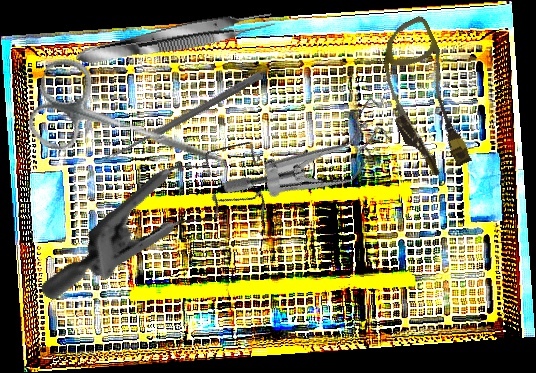Cannula: (358, 14, 489, 183)
Iris Scissors: (22, 52, 240, 201)
Speculum: (38, 86, 293, 370), (219, 53, 410, 252)
Surgical Spoon: (102, 70, 264, 165)
Tissue Forceps: (73, 4, 277, 72)
